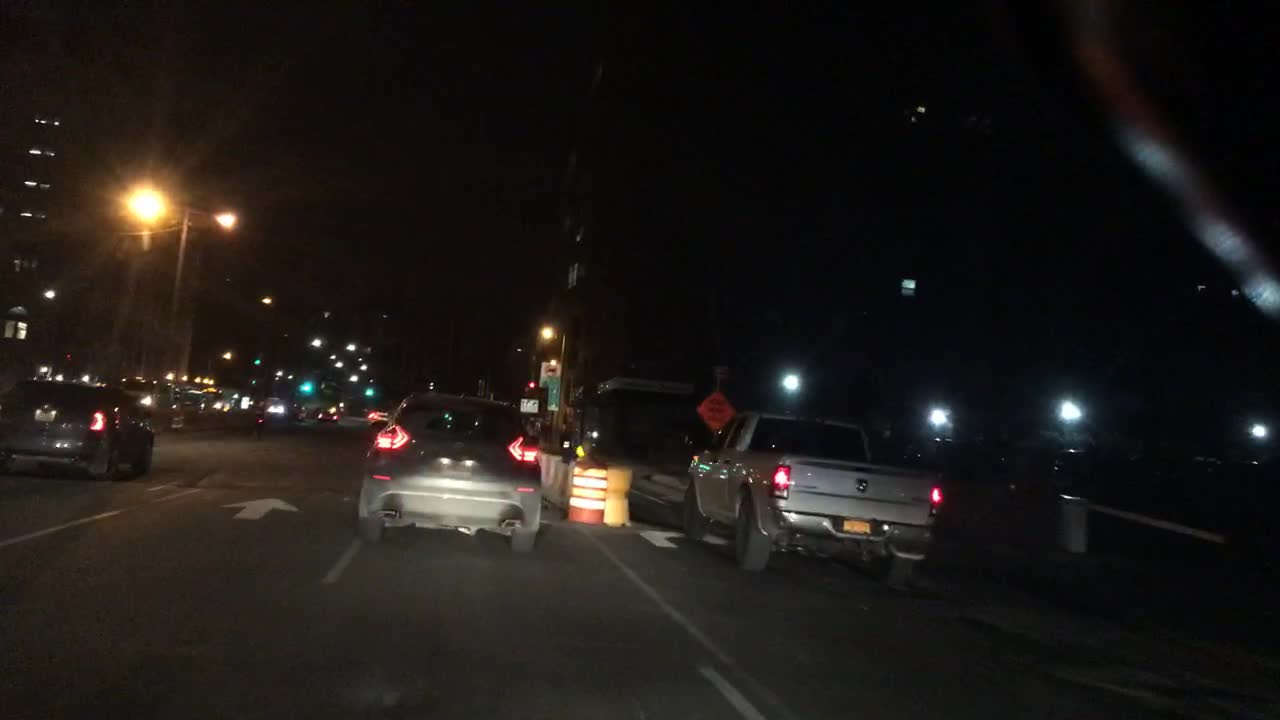bus: (550, 380, 712, 514)
car: (355, 395, 539, 551), (1, 380, 153, 481), (119, 380, 184, 430), (177, 388, 217, 430), (205, 388, 244, 423), (233, 390, 266, 423), (268, 399, 287, 420), (317, 408, 340, 422), (366, 411, 390, 423), (289, 402, 307, 418)
traffic sign: (696, 394, 735, 430), (539, 362, 560, 387), (548, 378, 560, 409), (520, 397, 539, 411)
truck: (677, 411, 943, 589)
